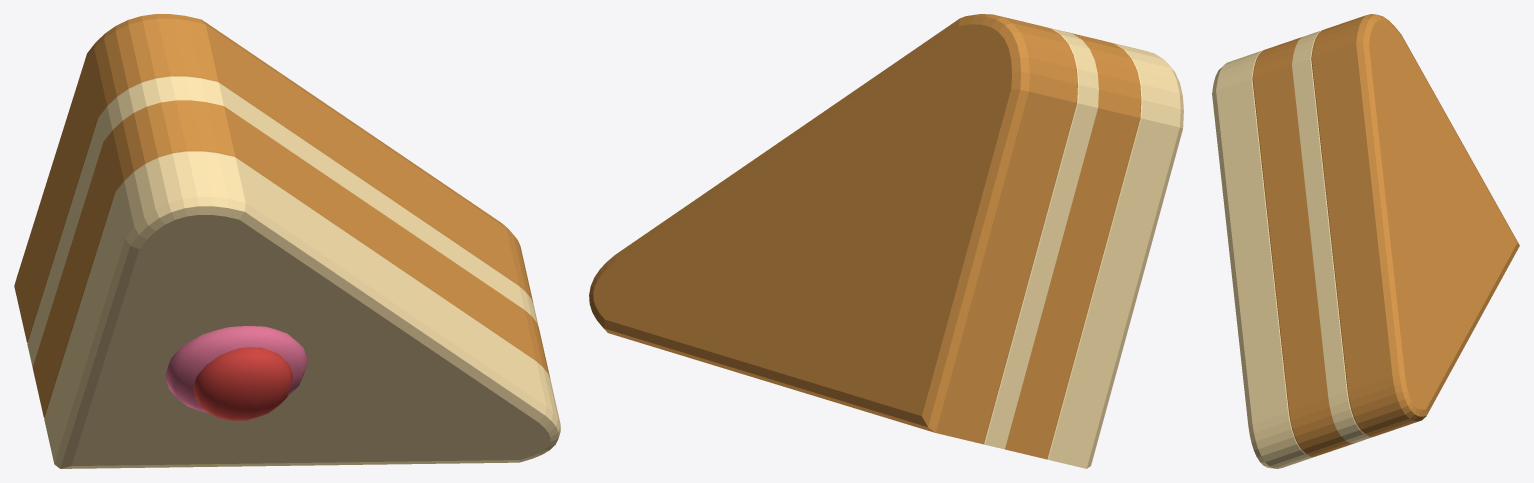
File: cake.glb
3 renders of one model, left to right at view 1: azimuth 30°, elevation 25°; view 2: azimuth 150°, elevation 25°; view 3: azimuth 270°, elevation 25°, orthographic. The views are drawn at different scales.
Parts seen in each view (by area): view 1: cake; view 2: cake; view 3: cake.
Boxes of the visible parts, <box> form: cake: <box>14,14,560,468</box>; cake: <box>589,14,1183,468</box>; cake: <box>1212,14,1519,468</box>.
Size of the model in its own units: 0.9871 by 0.9023 by 0.7344.
